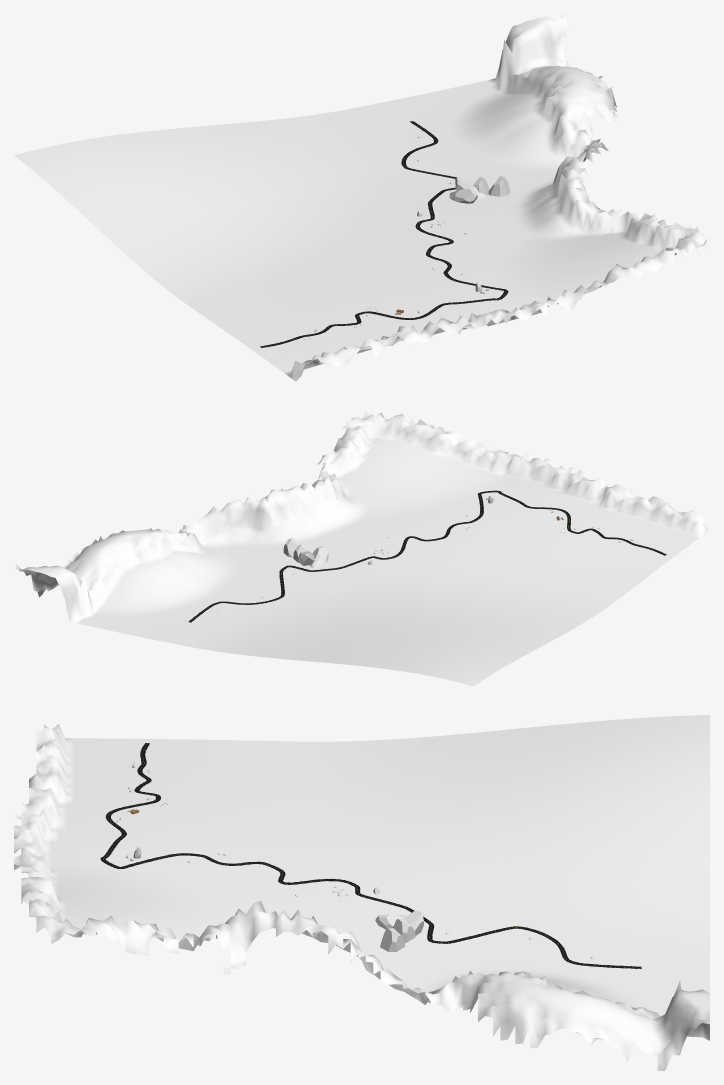
Rendered from chevreuse-test-transformed.glb.
The picture shows the model from 3 angles, top to bottom: view 1: azimuth 30°, elevation 25°; view 2: azimuth 150°, elevation 25°; view 3: azimuth 270°, elevation 25°; orthographic projection. The views are drawn at different scales.
Visible parts, largest first — view 1: Plane.001, Cube; view 2: Plane.001, Cube; view 3: Plane.001, Cube.
Part boxes in pixels (x1,y1,x2,y2): Plane.001: (14, 14, 709, 381); Cube: (260, 121, 510, 347); Plane.001: (14, 411, 709, 686); Cube: (188, 490, 666, 622); Plane.001: (14, 715, 709, 1070); Cube: (100, 743, 641, 968).
Size of the model in its own units: 13.99 by 1.61 by 13.01.
5 materials, 5 textured.
